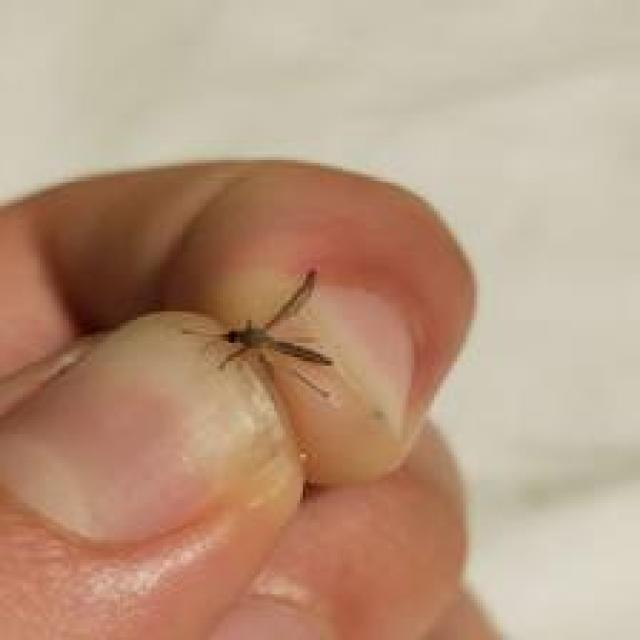Culex: (180, 267, 334, 404)
